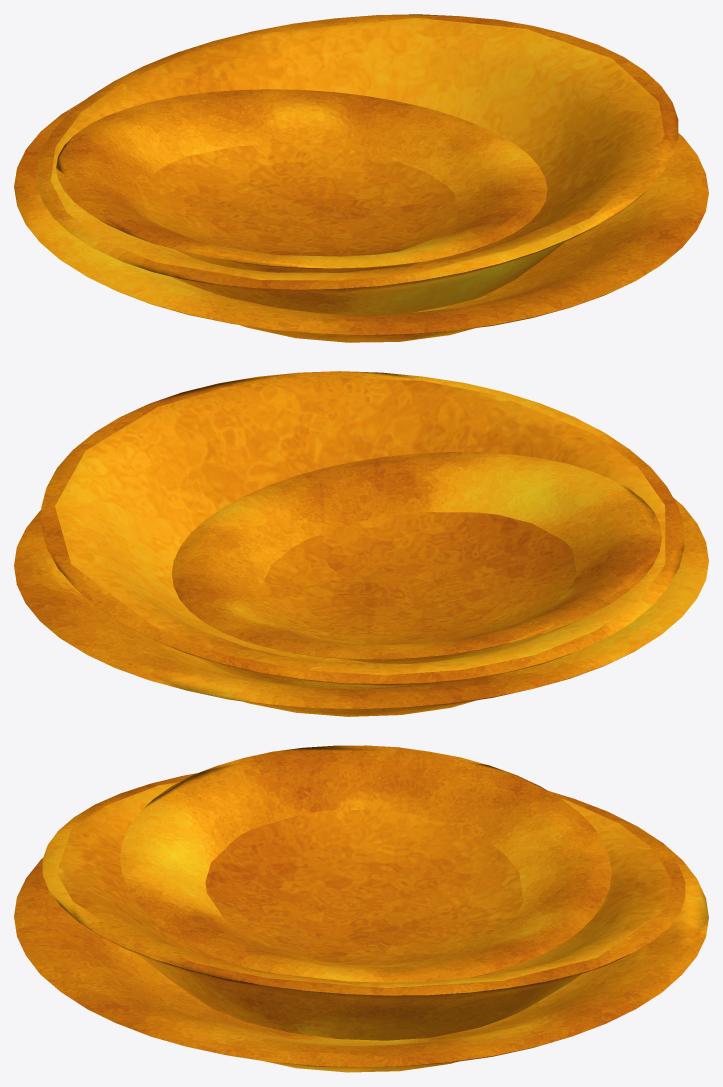
File: Dishes.FBX
3 renders of one model, top to bottom at view 1: azimuth 30°, elevation 25°; view 2: azimuth 150°, elevation 25°; view 3: azimuth 270°, elevation 25°, orthographic.
Visible parts, largest first — view 1: Dishes; view 2: Dishes; view 3: Dishes.
Boxes of the visible parts, x1,y1,x2,y2 form: Dishes: (14,14,708,342); Dishes: (14,371,708,716); Dishes: (14,745,708,1072).
Bounding box in the file's own units: 52.25 × 10.95 × 52.25.
1 material, 1 textured.
